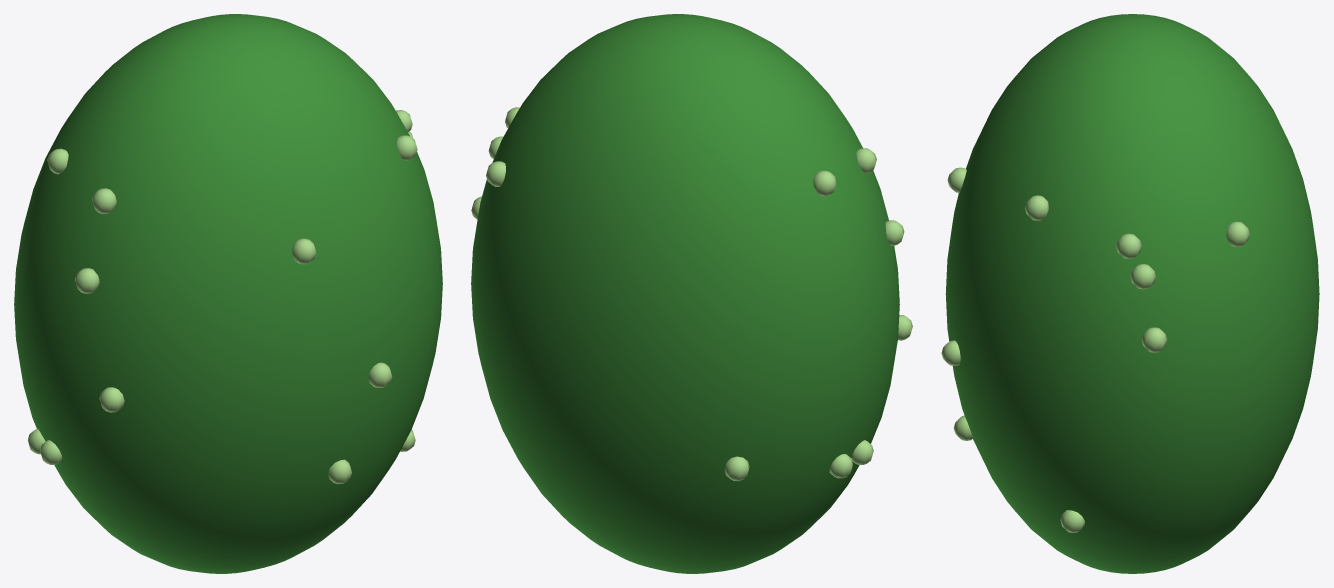
The model's file is tb_mat_agurk.glb.
3 renders of one model, left to right at view 1: azimuth 30°, elevation 25°; view 2: azimuth 150°, elevation 25°; view 3: azimuth 270°, elevation 25°, orthographic.
Visible parts, largest first — view 1: matkropp; view 2: matkropp; view 3: matkropp.
Part boxes in pixels (box(x1,y1,x2,y2)): matkropp: box(14, 14, 442, 573); matkropp: box(471, 14, 912, 573); matkropp: box(941, 14, 1319, 573).
Size of the model in its own units: 0.6965 by 0.903 by 0.5847.
